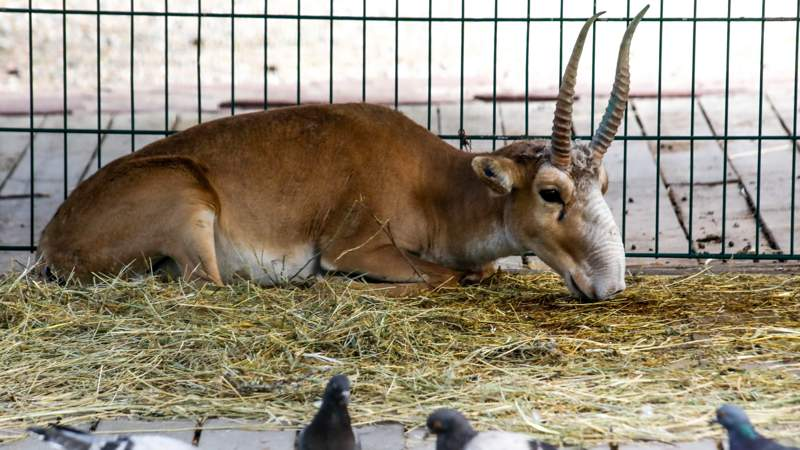saiga: (36, 5, 652, 345)
